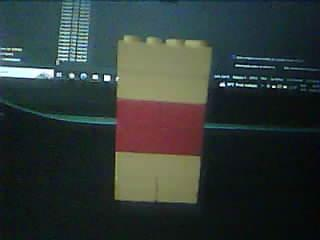lego: (113, 33, 212, 204)
